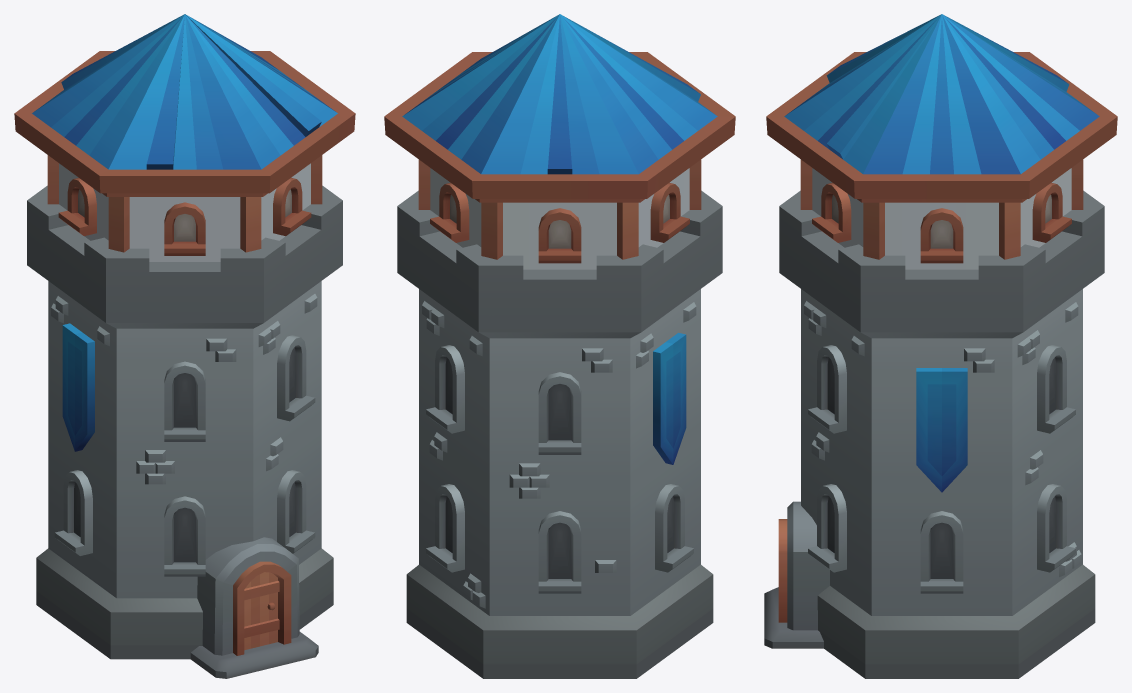
File: tower_A_blue.glb
The picture shows the model from 3 angles, left to right: view 1: azimuth 30°, elevation 25°; view 2: azimuth 150°, elevation 25°; view 3: azimuth 270°, elevation 25°; orthographic projection. The views are drawn at different scales.
Parts seen in each view (by area): view 1: building_tower_A_blue, building_tower_A_top_blue; view 2: building_tower_A_blue, building_tower_A_top_blue; view 3: building_tower_A_blue, building_tower_A_top_blue.
Boxes of the visible parts, x1,y1,x2,y2 form: building_tower_A_blue: (27, 185, 342, 678); building_tower_A_top_blue: (14, 14, 355, 261); building_tower_A_blue: (397, 190, 722, 678); building_tower_A_top_blue: (384, 14, 735, 269); building_tower_A_blue: (764, 190, 1104, 678); building_tower_A_top_blue: (766, 14, 1117, 269).
Bounding box in the file's own units: 0.9933 × 2.19 × 1.15.
Materials: 1 (1 with a texture image).
